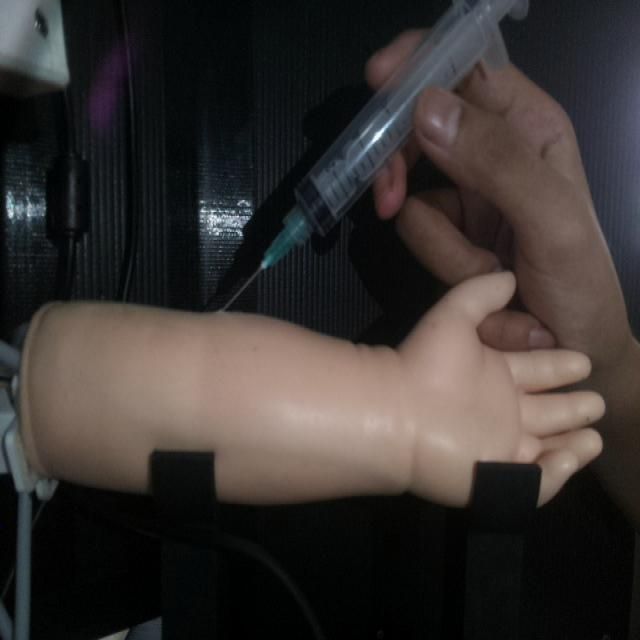Above 30 degrees: (214, 0, 530, 312)
